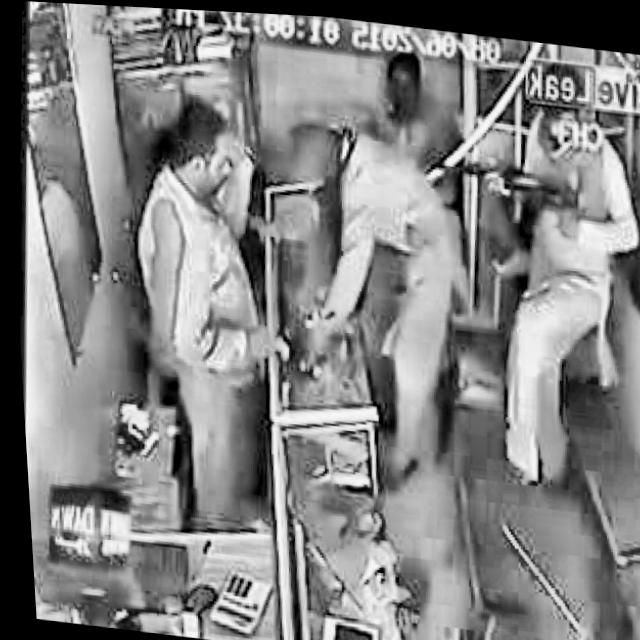robbery: (405, 39, 640, 499), (247, 111, 488, 488)
